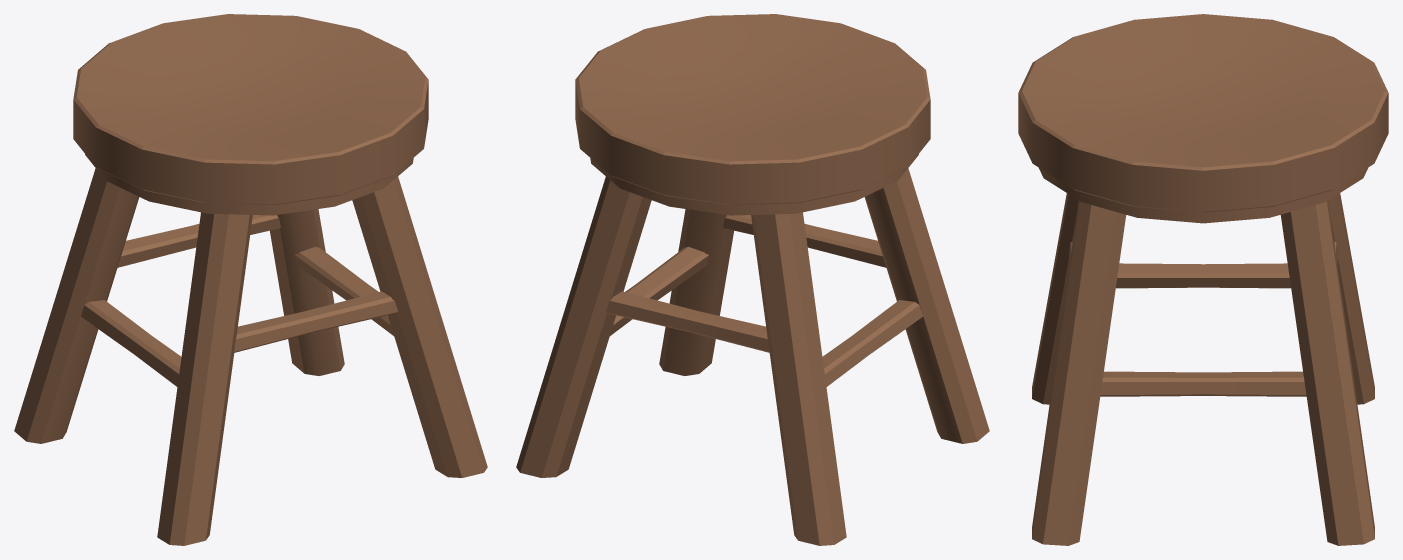
The model's file is Chair.fbx.
The picture shows the model from 3 angles, left to right: view 1: azimuth 30°, elevation 25°; view 2: azimuth 150°, elevation 25°; view 3: azimuth 270°, elevation 25°; orthographic projection. The views are drawn at different scales.
Parts seen in each view (by area): view 1: Chair; view 2: Chair; view 3: Chair.
Part boxes in pixels (left/top/right/bottom): Chair: left=14, top=14, right=487, bottom=545; Chair: left=516, top=14, right=989, bottom=545; Chair: left=1018, top=14, right=1388, bottom=545.
Size of the model in its own units: 0.9357 by 1.02 by 0.9125.
